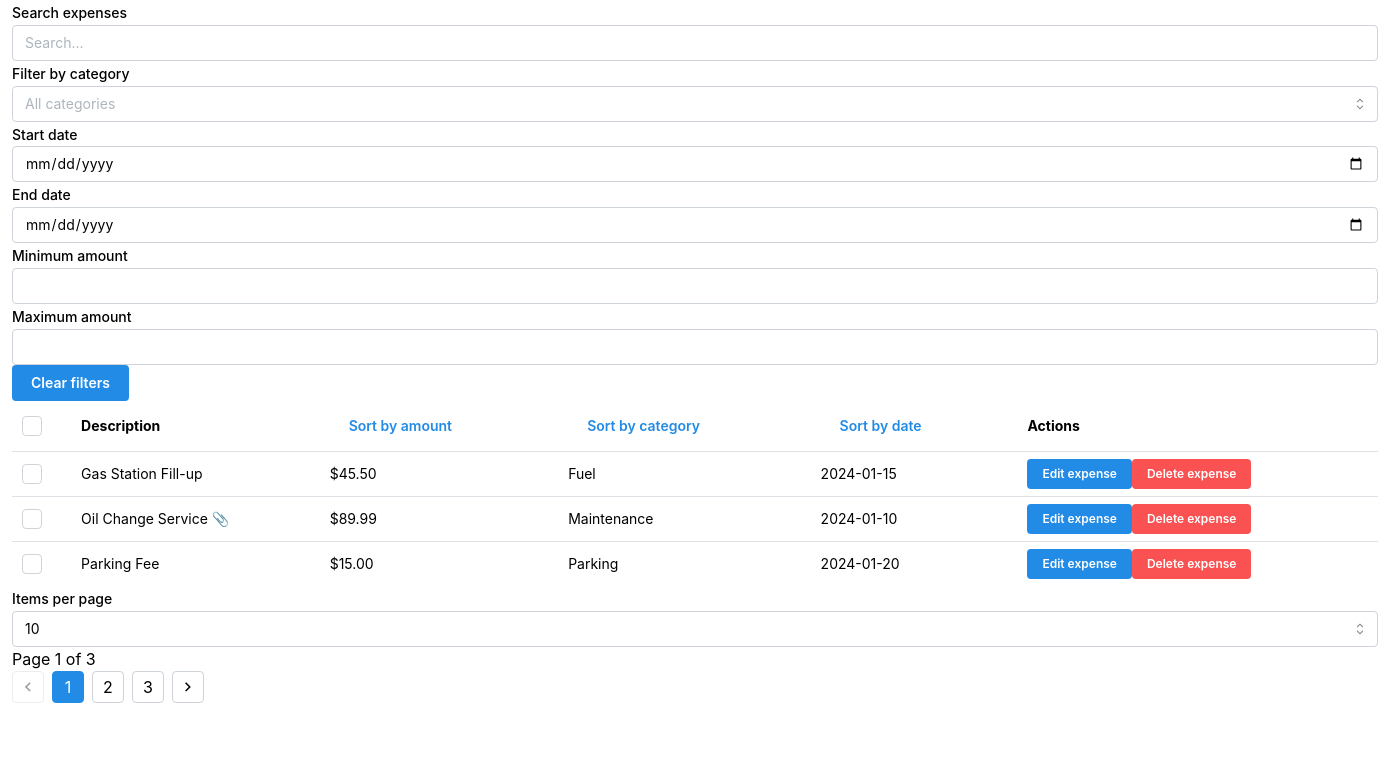
Test: ExpenseList › Selection and Bulk Operations › should allow selecting individual expenses
Click the checkbox next to "Gas Station Fill-up".
click(32, 474)  # box [22, 464, 42, 484]
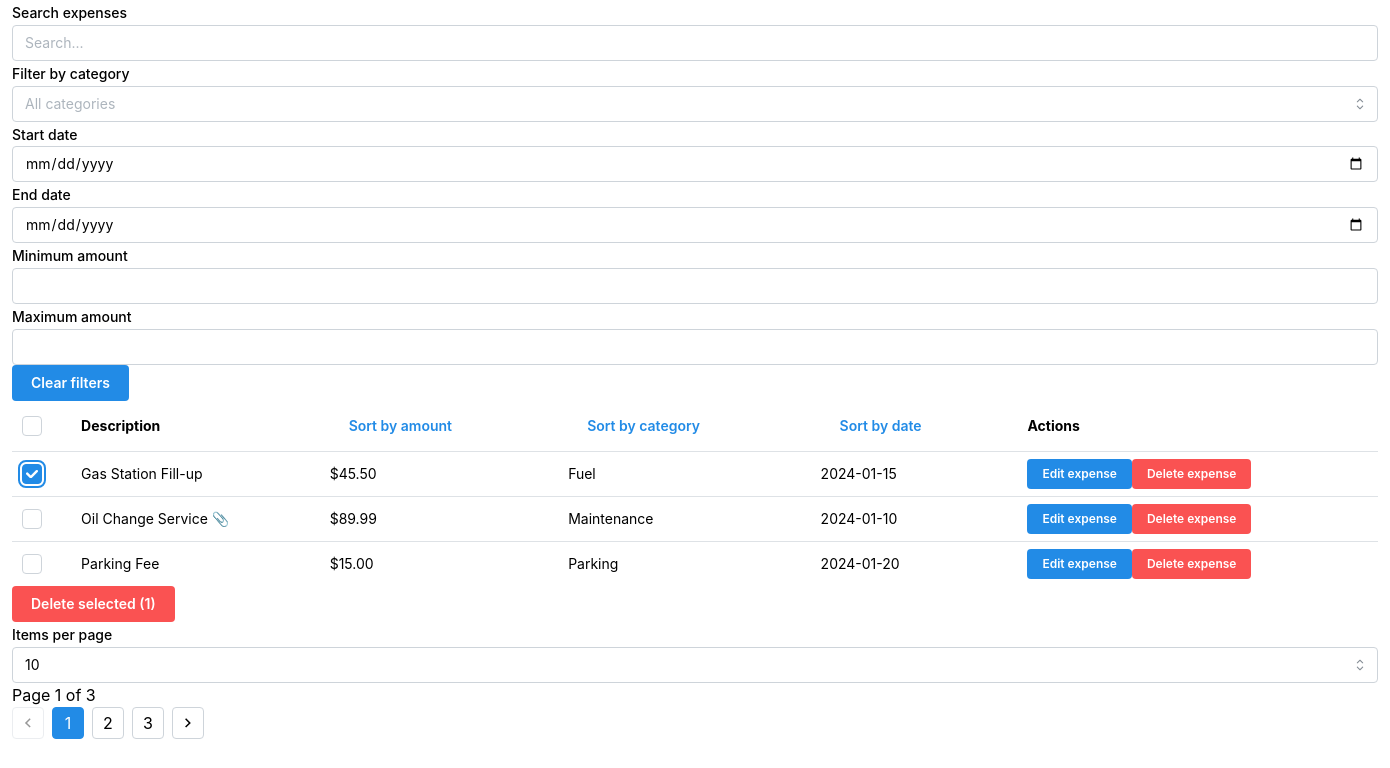
Expected: the checkbox next to "Gas Station Fill-up" is checked, [22, 464, 42, 484]
Expected: the button "Delete selected (1)" is shown, [31, 595, 156, 612]
